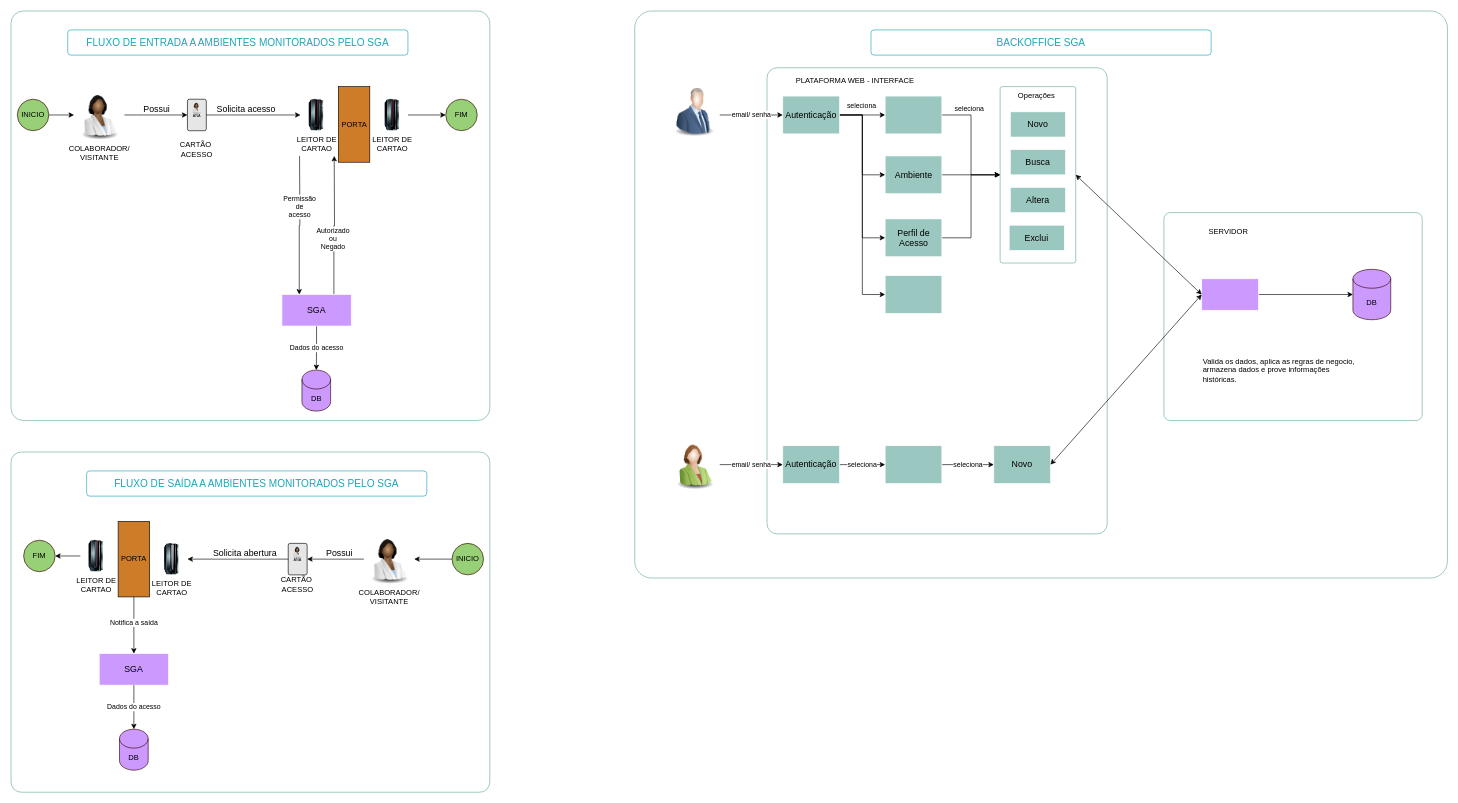
This 1458x803 diagram has some shape labels left out. Each missing label, with the centre of its shape:
ADMIN: point 694,111
API: point 1229,294
Colaborador: point 913,114
RECEPCIONISTA: point 694,464
Relatorios: point 913,294
Visitante: point 913,464
